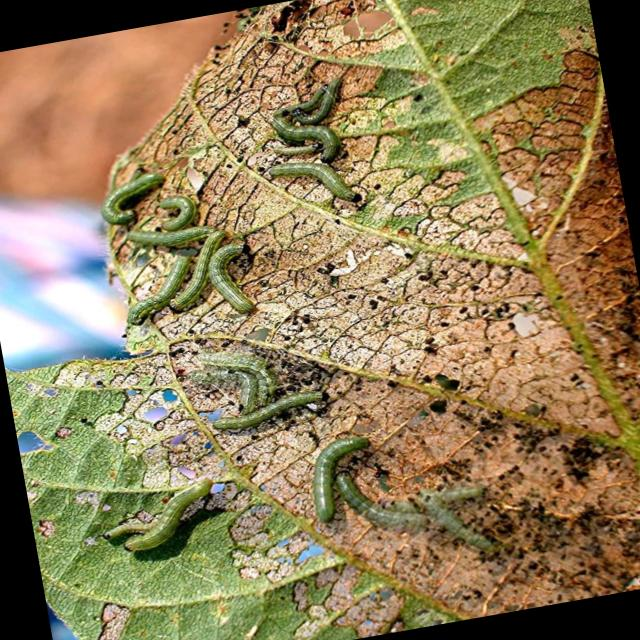Armyworm: (85, 465, 238, 569), (197, 370, 345, 463), (280, 425, 381, 533), (106, 251, 209, 340), (194, 226, 279, 332), (243, 154, 370, 218), (74, 161, 173, 234), (257, 67, 347, 123), (322, 462, 395, 528), (268, 111, 350, 164), (126, 220, 218, 256), (137, 187, 192, 237)
Armyworm_damage: (255, 531, 332, 580), (14, 417, 67, 477), (136, 382, 192, 428), (24, 381, 65, 425)
